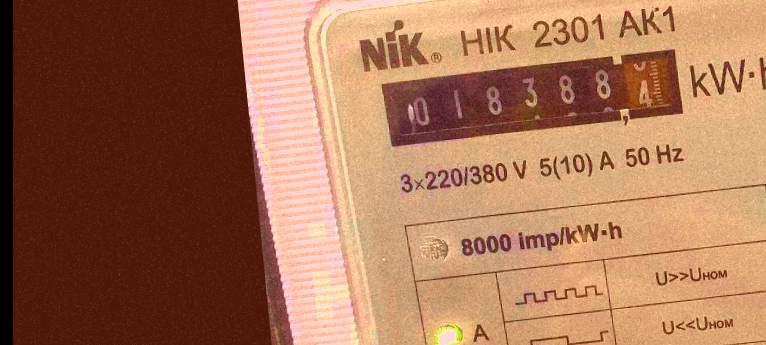0: (410, 91, 434, 129)
1: (448, 83, 469, 121)
3: (520, 73, 543, 110)
4: (634, 74, 657, 109)
8: (482, 80, 507, 118), (591, 64, 616, 102), (556, 71, 579, 108)
screen: (373, 38, 698, 158)
